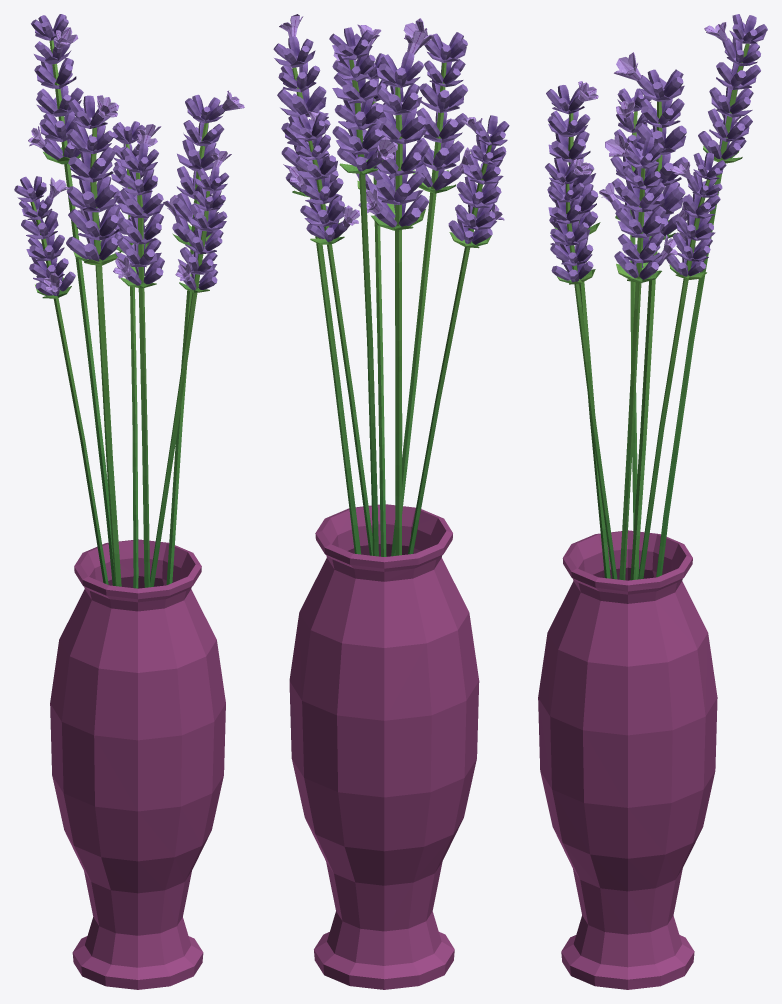
Rendered from sweethome3d-scopia-lavender.glb.
3 views of the same model, side by side, from view 1: azimuth 30°, elevation 25°; view 2: azimuth 150°, elevation 25°; view 3: azimuth 270°, elevation 25° (orthographic). The views are drawn at different scales.
Parts seen in each view (by area): view 1: Jar, Lavender, Lavender.002, Lavender.006, Lavender.003, Lavender.005, Lavender.001, Lavender.004; view 2: Jar, Lavender, Lavender.006, Lavender.002, Lavender.004, Lavender.005, Lavender.001, Lavender.003; view 3: Jar, Lavender.001, Lavender.006, Lavender, Lavender.004, Lavender.003, Lavender.002, Lavender.005.
Part boxes in pixels (x1,y1,x2,y2): Jar: (50, 539, 225, 989); Lavender: (66, 95, 121, 586); Lavender.002: (113, 124, 164, 587); Lavender.006: (28, 14, 114, 585); Lavender.003: (150, 151, 231, 587); Lavender.005: (14, 176, 108, 584); Lavender.001: (163, 90, 244, 584); Lavender.004: (111, 121, 157, 588); Jar: (289, 504, 479, 989); Lavender: (358, 30, 434, 555); Lavender.006: (329, 24, 397, 556); Lavender.002: (391, 18, 478, 556); Lavender.004: (288, 111, 372, 555); Lavender.005: (407, 115, 509, 554); Lavender.001: (273, 14, 361, 554); Lavender.003: (333, 43, 394, 556); Jar: (538, 530, 717, 989); Lavender.001: (605, 133, 677, 580); Lavender.006: (656, 14, 767, 577); Lavender: (614, 52, 692, 580); Lavender.004: (638, 152, 726, 579); Lavender.003: (545, 158, 617, 579); Lavender.002: (546, 81, 610, 578); Lavender.005: (599, 88, 651, 579).
Bounding box in the file's own units: 13.35 × 53.52 × 12.
6 materials, 5 textured.
